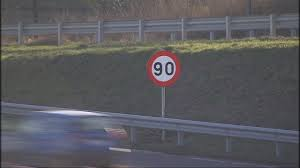Speed_limit_90km: (147, 51, 181, 86)
